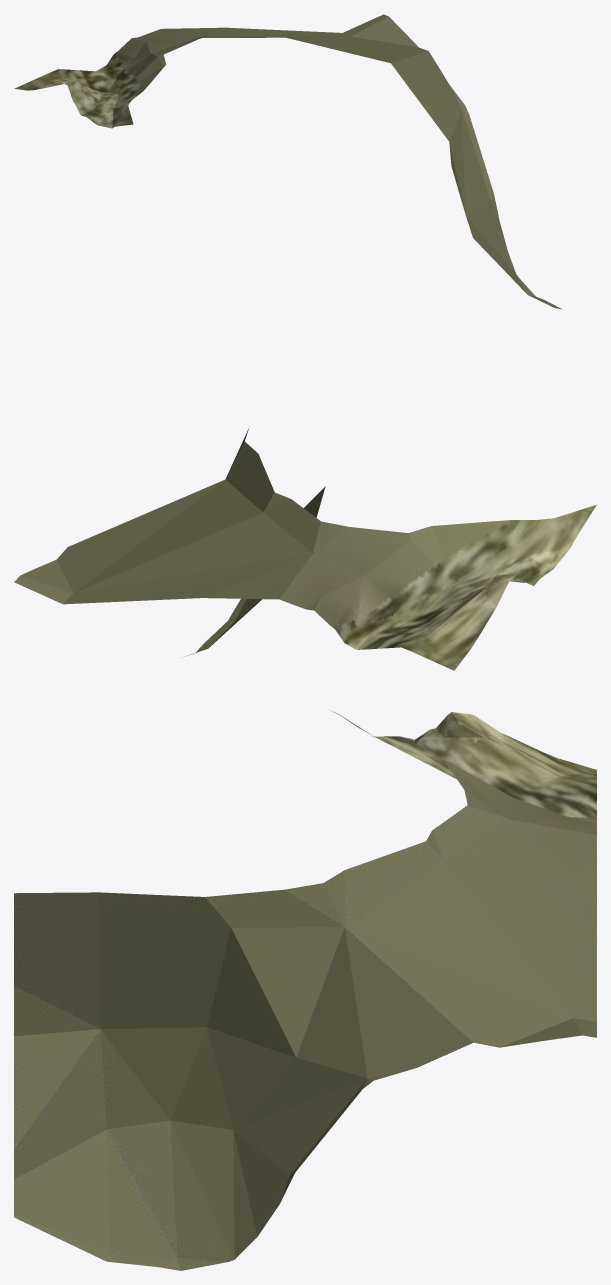
3 views of the same model, one above another, from view 1: azimuth 30°, elevation 25°; view 2: azimuth 150°, elevation 25°; view 3: azimuth 270°, elevation 25° (orthographic). The views are drawn at different scales.
Bounding box in the file's own units: 5.9 × 3.64 × 5.9.
2 materials, 2 textured.
